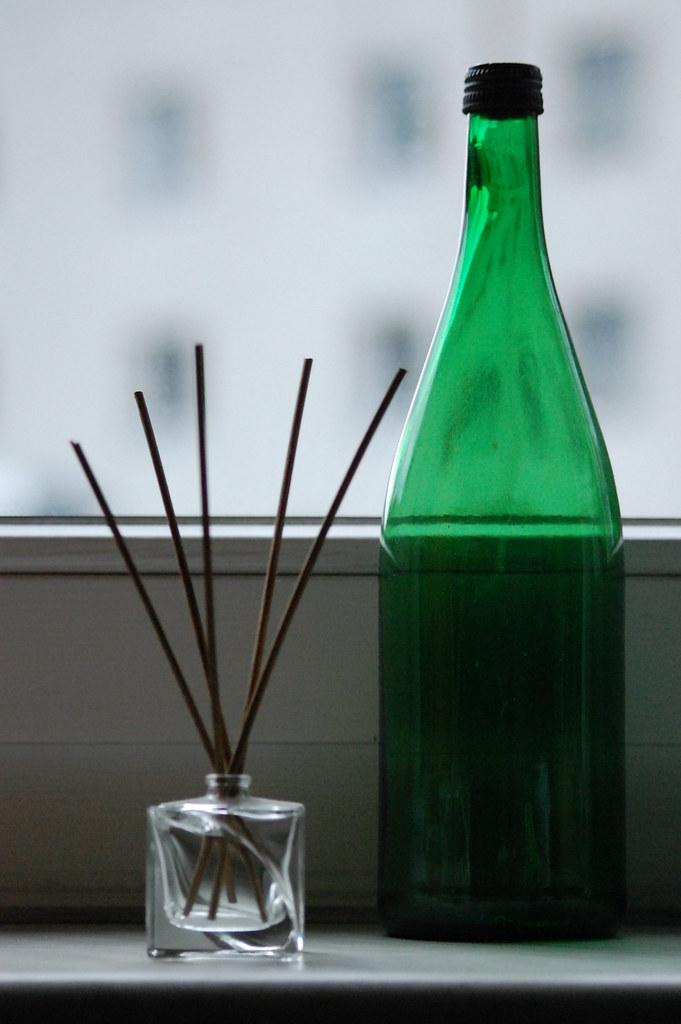bottle: (377, 62, 628, 943)
